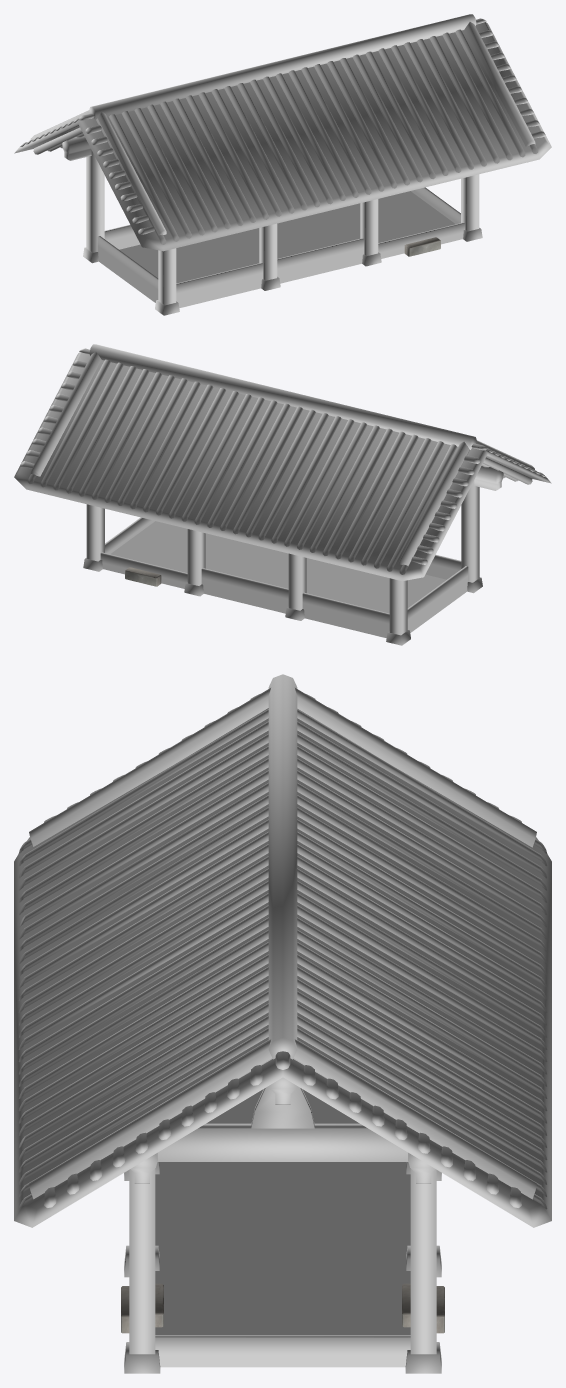
Rendered from Jongmyo_04.fbx.
3 views of the same model, one above another, from view 1: azimuth 30°, elevation 25°; view 2: azimuth 150°, elevation 25°; view 3: azimuth 270°, elevation 25° (orthographic). The views are drawn at different scales.
Visible parts, largest first — view 1: Aggongcheong_Yeongnyeongjeon; view 2: Aggongcheong_Yeongnyeongjeon; view 3: Aggongcheong_Yeongnyeongjeon.
Boxes of the visible parts, box(x1,y1,x2,y2) form: Aggongcheong_Yeongnyeongjeon: box(14, 14, 551, 315); Aggongcheong_Yeongnyeongjeon: box(14, 344, 551, 645); Aggongcheong_Yeongnyeongjeon: box(14, 674, 551, 1373).
Size of the model in its own units: 1153 by 502 by 670.
